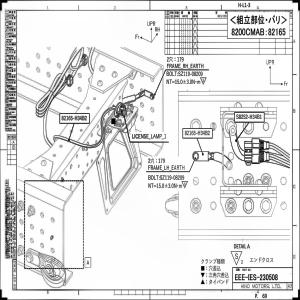PartNumber: (61, 115, 87, 122), (236, 113, 262, 120), (160, 174, 184, 181), (184, 130, 211, 136), (178, 71, 203, 77)
